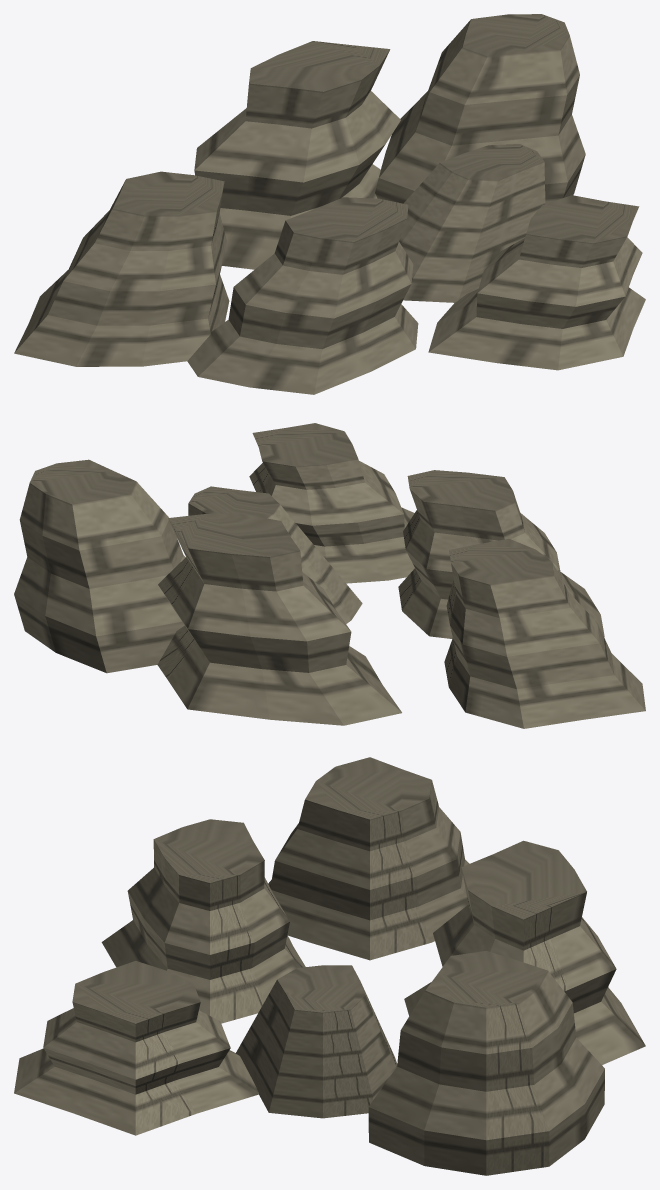
Rendered from rock-talus-lod0.glb.
3 views of the same model, one above another, from view 1: azimuth 30°, elevation 25°; view 2: azimuth 150°, elevation 25°; view 3: azimuth 270°, elevation 25° (orthographic). The views are drawn at different scales.
Bounding box in the file's own units: 0.6108 × 0.14 × 0.4769.
Materials: 1 (1 with a texture image).
